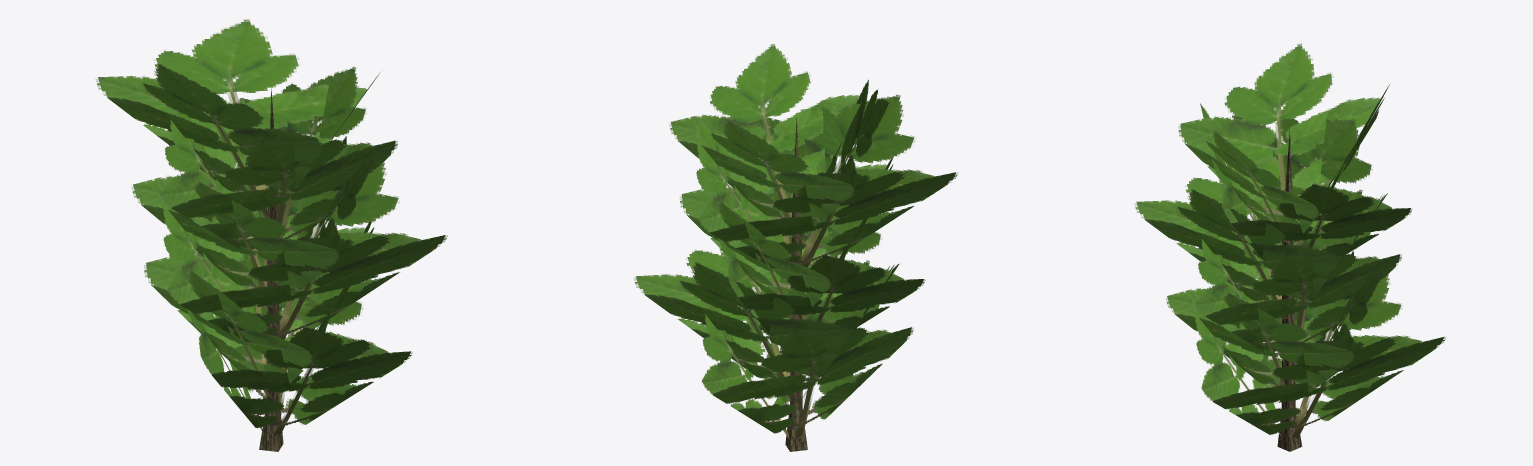
Rendered from bush2.glb.
3 views of the same model, side by side, from view 1: azimuth 30°, elevation 25°; view 2: azimuth 150°, elevation 25°; view 3: azimuth 270°, elevation 25° (orthographic). The views are drawn at different scales.
Visible parts, largest first — view 1: bush_2; view 2: bush_2; view 3: bush_2.
Boxes of the visible parts, bbox=[...] form: bush_2: bbox=[96, 19, 447, 451]; bush_2: bbox=[634, 44, 957, 451]; bush_2: bbox=[1134, 43, 1445, 451].
Size of the model in its own units: 2.52 by 2.38 by 2.75.
2 materials, 2 textured.
